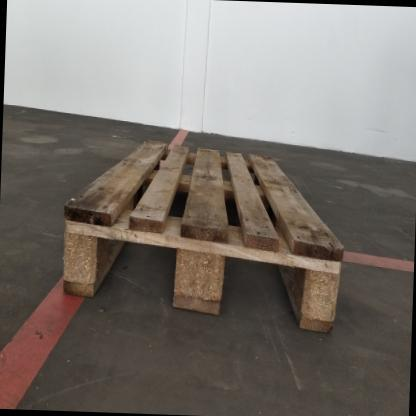BoxFace: (58, 137, 349, 335)
